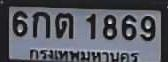1: (85, 13, 95, 38)
6: (12, 10, 26, 36), (121, 14, 135, 39)
8: (102, 14, 116, 39)
9: (140, 15, 154, 40)
A01: (32, 11, 49, 37)
A21: (55, 12, 72, 38)
BKK: (28, 46, 138, 62)
